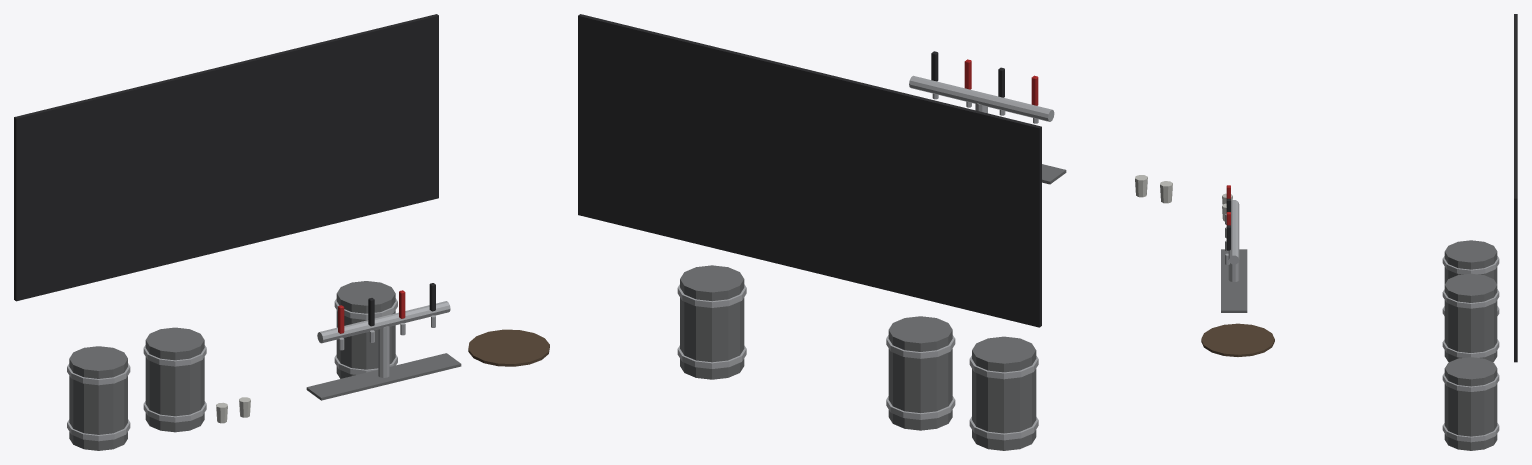
File: booth_lab.glb
3 renders of one model, left to right at view 1: azimuth 30°, elevation 25°; view 2: azimuth 150°, elevation 25°; view 3: azimuth 270°, elevation 25°, orthographic. The views are drawn at different scales.
Visible parts, largest first — view 1: booth_lab; view 2: booth_lab; view 3: booth_lab.
Part boxes in pixels (x1=…): booth_lab: x1=14, y1=14, x2=549, y2=450; booth_lab: x1=578, y1=14, x2=1172, y2=450; booth_lab: x1=1201, y1=14, x2=1517, y2=450.
Size of the model in its own units: 3.32 by 2.38 by 2.4.
